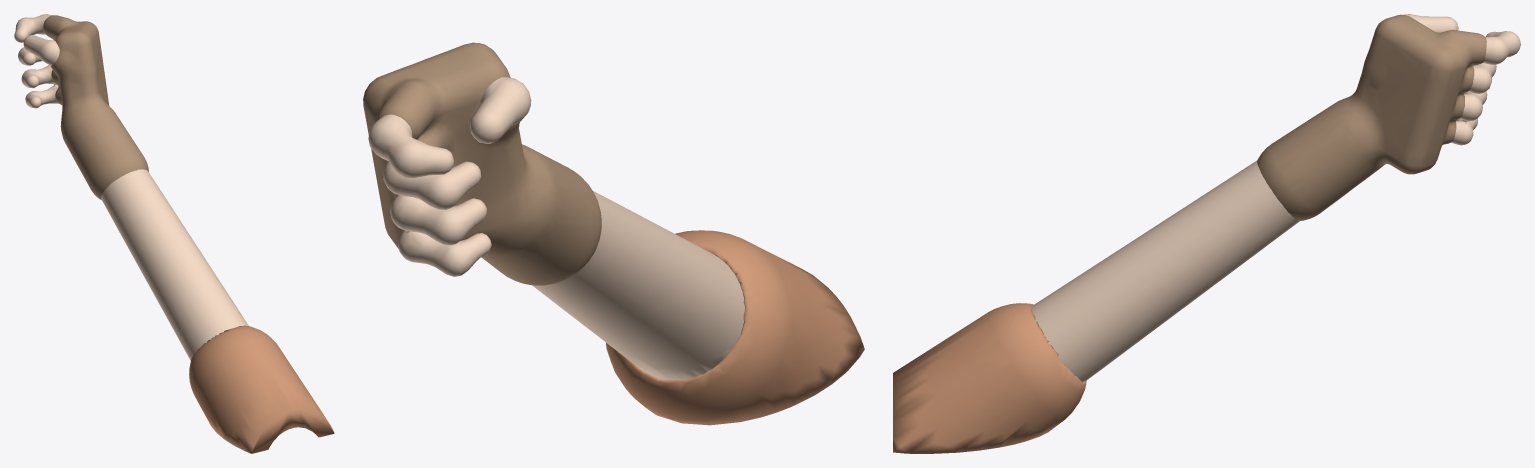
Rendered from eco_fp_arm.glb.
3 views of the same model, side by side, from view 1: azimuth 30°, elevation 25°; view 2: azimuth 150°, elevation 25°; view 3: azimuth 270°, elevation 25° (orthographic). The views are drawn at different scales.
Visible parts, largest first — view 1: fp_hand, fp_sleeve, fp_glove; view 2: fp_hand, fp_glove, fp_sleeve; view 3: fp_hand, fp_glove, fp_sleeve.
Boxes of the visible parts, left/top/right/bottom form: fp_hand: left=14, top=14, right=248, bottom=360; fp_sleeve: left=189, top=325, right=334, bottom=453; fp_glove: left=43, top=15, right=148, bottom=199; fp_hand: left=368, top=77, right=745, bottom=380; fp_glove: left=363, top=42, right=601, bottom=285; fp_sleeve: left=605, top=230, right=864, bottom=425; fp_hand: left=1031, top=14, right=1520, bottom=381; fp_glove: left=1257, top=14, right=1486, bottom=220; fp_sleeve: left=893, top=303, right=1086, bottom=453.
Size of the model in its own units: 0.1279 by 0.321 by 0.4736.
